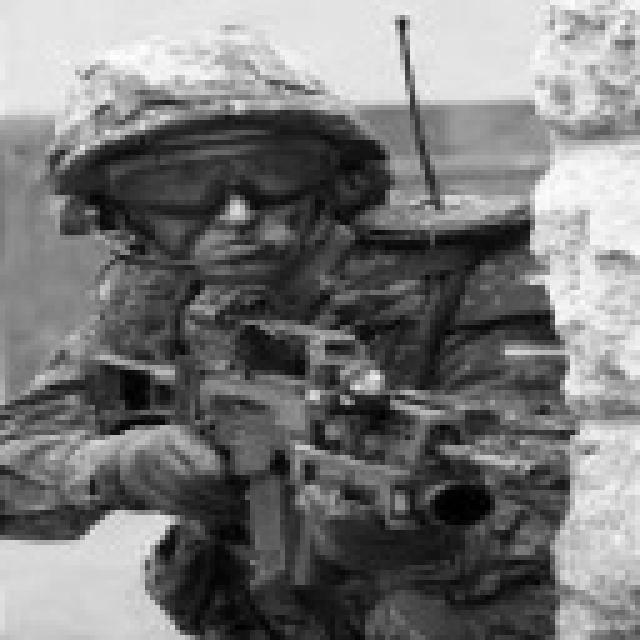Rifle: (84, 7, 549, 616)
